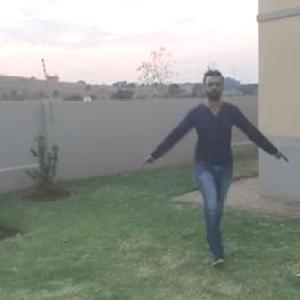land: (138, 72, 278, 250)
